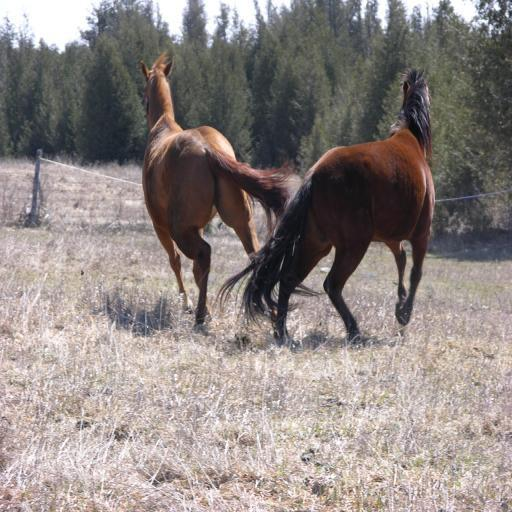horse: (208, 65, 436, 348), (141, 48, 295, 324)
